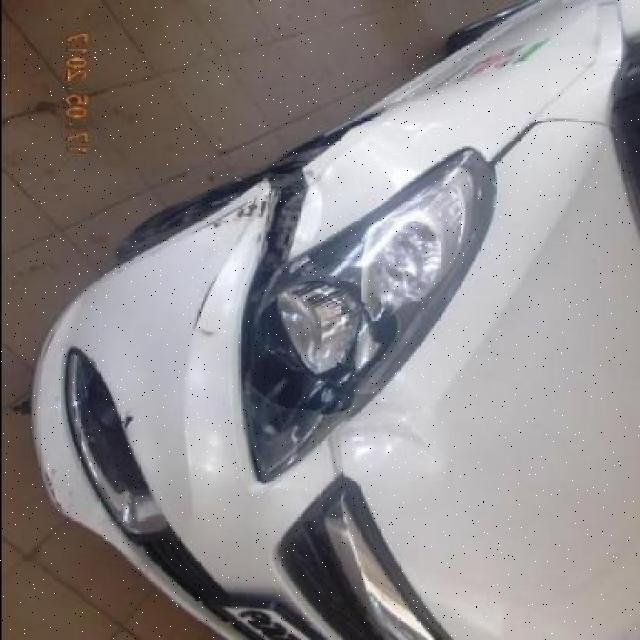damage: (247, 259, 409, 421), (232, 169, 302, 473), (288, 131, 402, 253), (335, 401, 440, 467), (177, 192, 266, 238), (188, 261, 220, 337), (39, 465, 70, 514), (116, 409, 141, 433)
